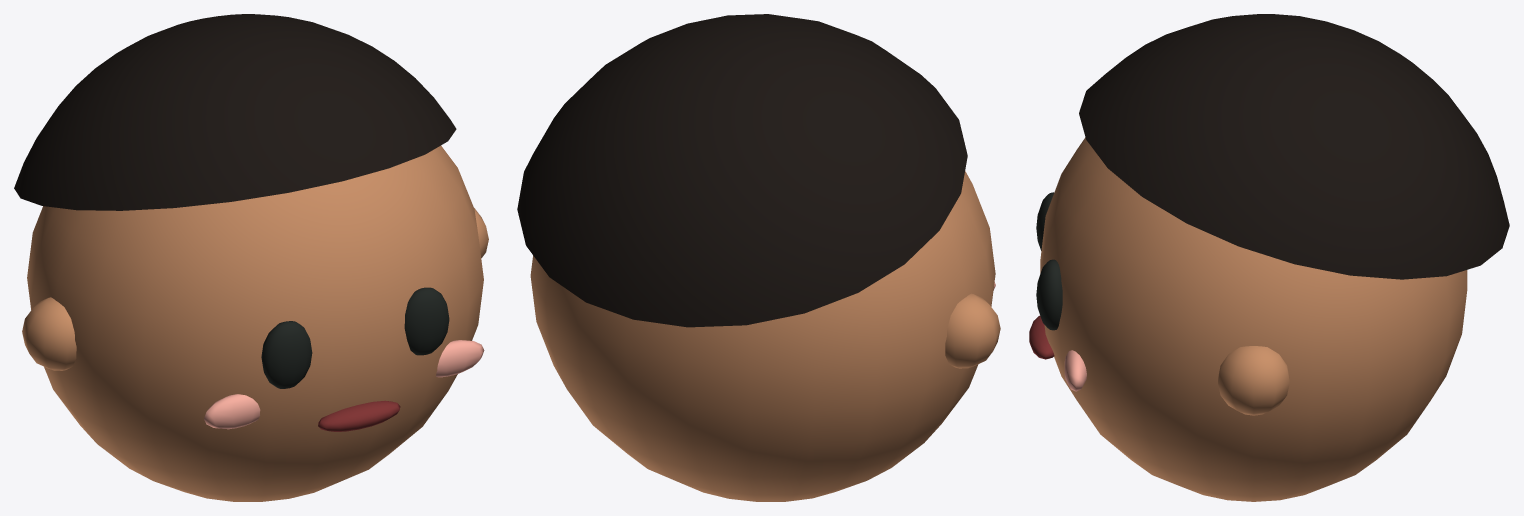
Rendered from saebyeok.glb.
The picture shows the model from 3 angles, left to right: view 1: azimuth 30°, elevation 25°; view 2: azimuth 150°, elevation 25°; view 3: azimuth 270°, elevation 25°; orthographic projection.
Visible parts, largest first — view 1: face, hair, ear-1, eyeL, eyeR, mouth, cheekL, cheekR; view 2: hair, face, ear-1; view 3: face, hair, ear1, eyeR, cheekR, mouth.
Part boxes in pixels (x1,y1,x2,y2): face: (27, 145, 483, 501); hair: (14, 14, 456, 210); ear-1: (22, 297, 76, 370); eyeL: (261, 321, 312, 388); eyeR: (404, 287, 449, 355); mouth: (318, 400, 400, 431); cheekL: (204, 394, 260, 429); cheekR: (436, 340, 484, 377); hair: (517, 14, 967, 327); face: (530, 171, 995, 501); ear-1: (945, 293, 1000, 368); face: (1040, 137, 1467, 501); hair: (1079, 14, 1509, 279); ear1: (1218, 346, 1289, 415); eyeR: (1036, 259, 1062, 330); cheekR: (1064, 350, 1086, 391); mouth: (1029, 315, 1054, 359).
Size of the model in its own units: 1.4 by 1.29 by 1.27.
